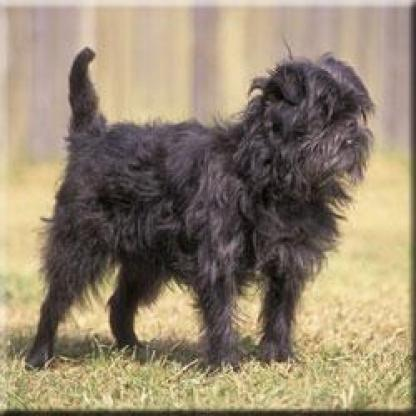affenpinscher: (23, 40, 371, 368)
